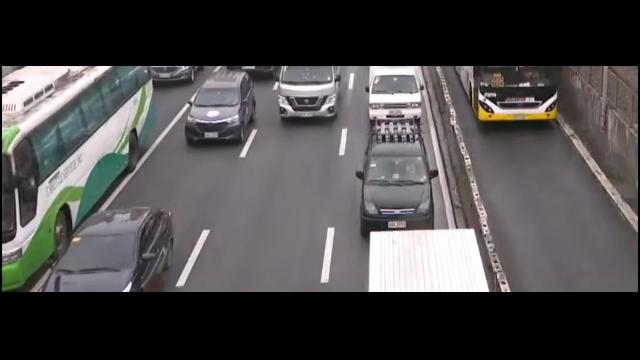bus: (3, 65, 156, 293), (453, 66, 558, 121)
car: (43, 207, 176, 292), (355, 122, 438, 238), (183, 72, 255, 143), (148, 66, 200, 86)
van: (366, 64, 425, 124), (276, 66, 338, 118)
